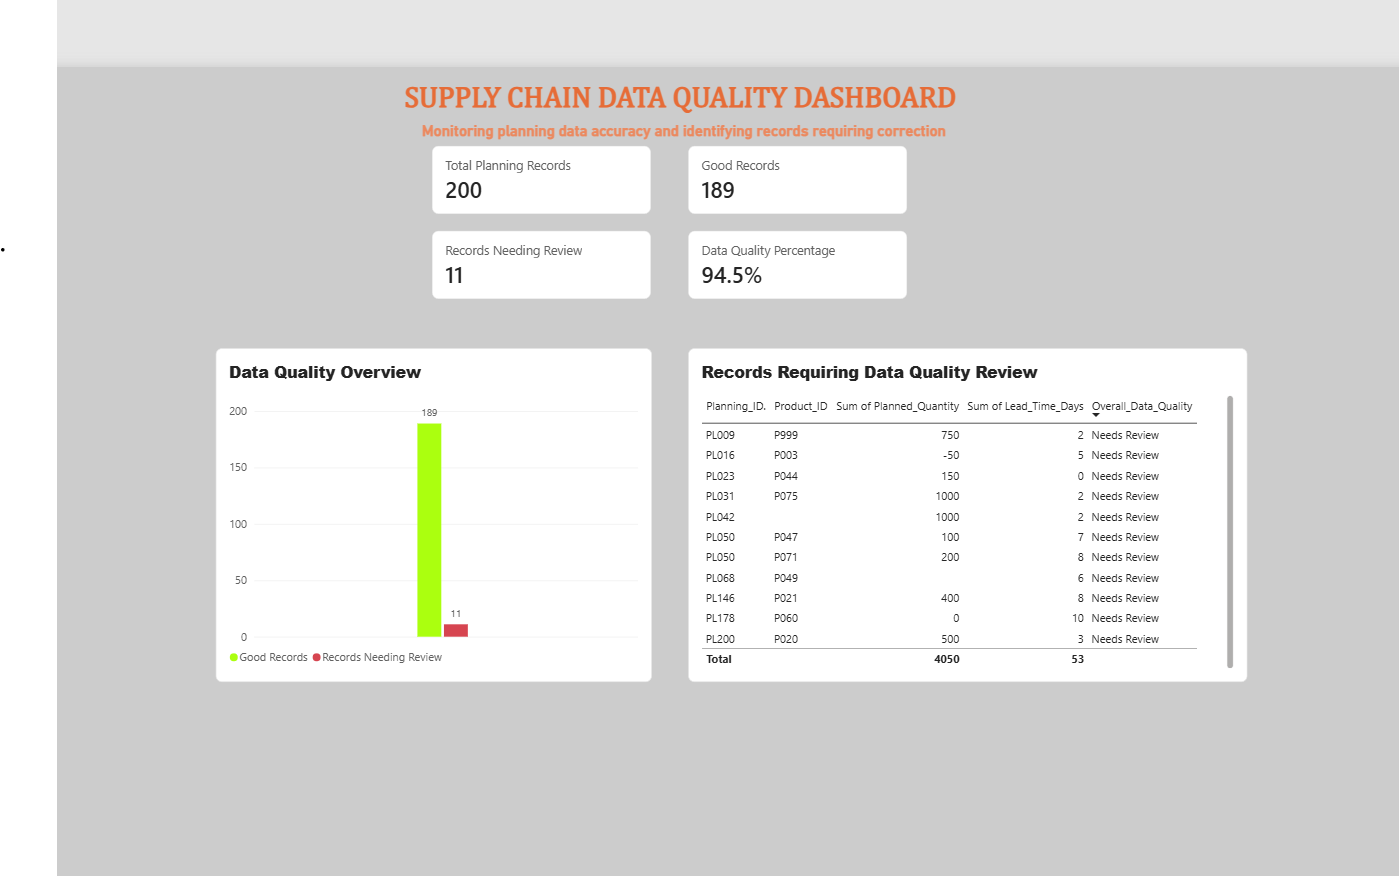

What the dashboard file says about the page in this screenshot:
{"tool":"powerbi","page":{"name":"Page 1","canvas":[1920,1080],"ordinal":0},"visuals":[{"type":"cardVisual","fields":{"Data":["Planning_Data.Total Planning Records"]},"box":[593.5,100.8,280,87],"z":0},{"type":"cardVisual","fields":{"Data":["Planning_Data.Records Needing Review"]},"box":[593.5,208.5,280,87],"z":1},{"type":"cardVisual","fields":{"Data":["Planning_Data.Good Records"]},"box":[920,100.8,280,87],"z":2},{"type":"cardVisual","fields":{"Data":["Planning_Data.Data Quality Percentage"]},"box":[920,208.5,280,87],"z":3},{"type":"tableEx","title":"Records Requiring Data Quality Review","fields":{"Values":["Planning_Data.Planning_ID.","Planning_Data.Product_ID","Sum(Planning_Data.Planned_Quantity)","Sum(Planning_Data.Lead_Time_Days)","Planning_Data.Overall_Data_Quality"]},"box":[920,358.4,712.4,425.6],"z":4},{"type":"textbox","box":[557.4,19.8,724.5,62.9],"z":5},{"type":"clusteredColumnChart","title":"Data Quality Overview","fields":{"Y":["Planning_Data.Good Records","Planning_Data.Records Needing Review"]},"box":[317.9,358.4,555.6,425.6],"z":6},{"type":"textbox","box":[580.6,69.8,678.8,31],"z":7}]}

Visuals, with their boxes on the page's 1920x1080 design canvas (x1, y1, x2, y2). These are canvas units, not pixel positions in the 1399x876 screenshot, which may show the page scaled, cropped or inside an application window:
cardVisual - Planning_Data.Total Planning Records: <bbox>594, 101, 874, 188</bbox>
cardVisual - Planning_Data.Records Needing Review: <bbox>594, 208, 874, 296</bbox>
cardVisual - Planning_Data.Good Records: <bbox>920, 101, 1200, 188</bbox>
cardVisual - Planning_Data.Data Quality Percentage: <bbox>920, 208, 1200, 296</bbox>
"Records Requiring Data Quality Review" tableEx: <bbox>920, 358, 1632, 784</bbox>
textbox: <bbox>557, 20, 1282, 83</bbox>
"Data Quality Overview" clusteredColumnChart: <bbox>318, 358, 874, 784</bbox>
textbox: <bbox>581, 70, 1259, 101</bbox>
